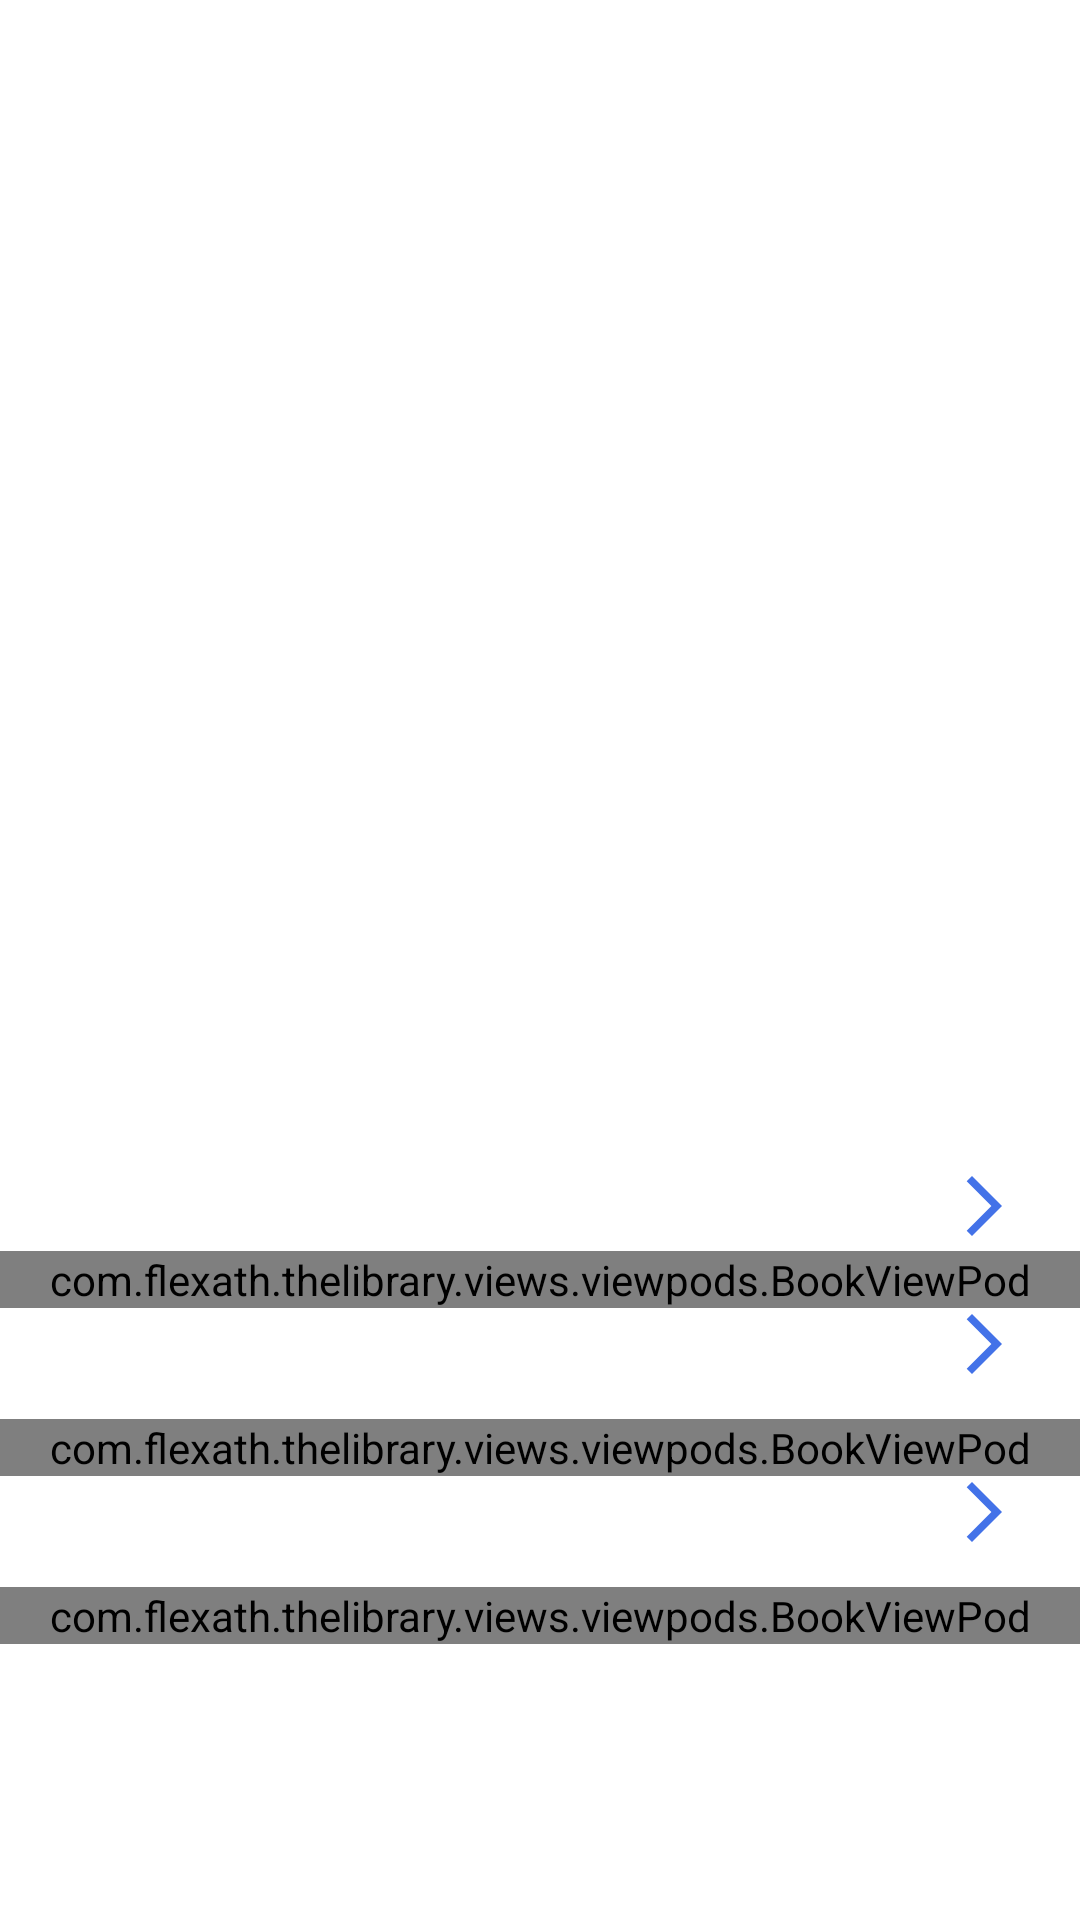

Locate icon controls on the screen. Image size 1080 × 1920, boxes as (x1=x1, y1=y1, x2=x2, y2=y2).
arrow forward: (x1=967, y1=1176, x2=1002, y2=1236), (x1=967, y1=1314, x2=1002, y2=1374), (x1=967, y1=1482, x2=1002, y2=1542)
